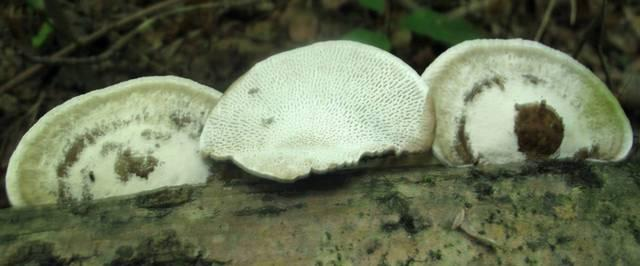poisonous_mushroom: (198, 38, 435, 183), (420, 36, 634, 176), (4, 73, 224, 209)
